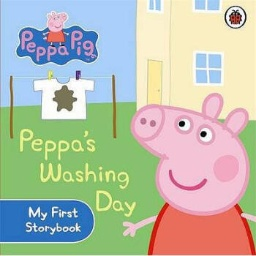Peppa: (119, 92, 256, 255)
